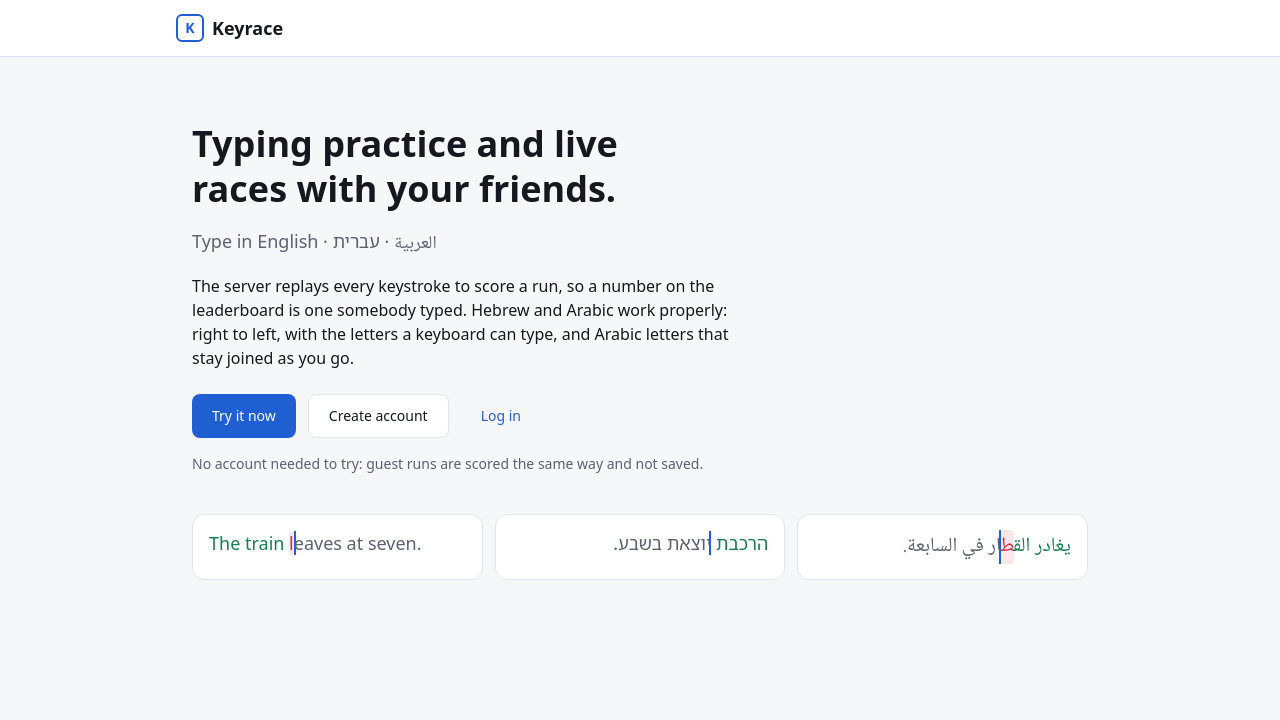
Test: guest practice › the landing page offers "Try it now", which opens practice in guest mode
Click the link "Try it now" at (244, 416), box [192,394,296,438]
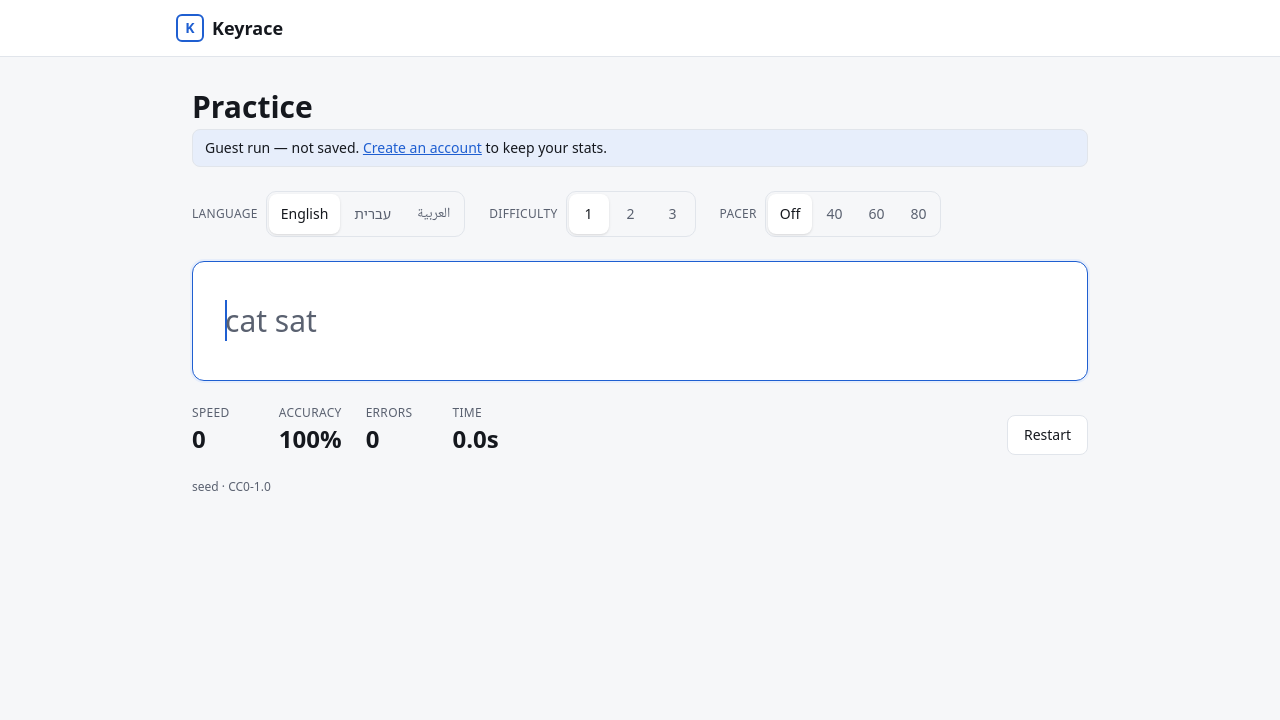
Check: the element with test id "guest-banner" reads "Guest run — not saved. Create an account to keep your stats.", box [192,129,1088,167]
Check: the element named "Type the text above" is shown, box [192,261,1088,381]
